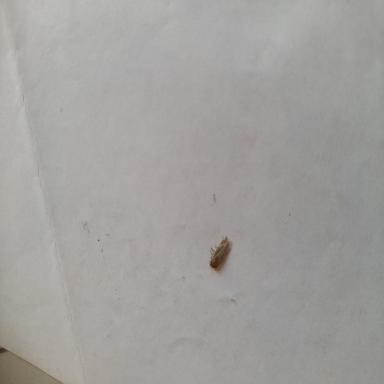pbw: (209, 236, 229, 269)
